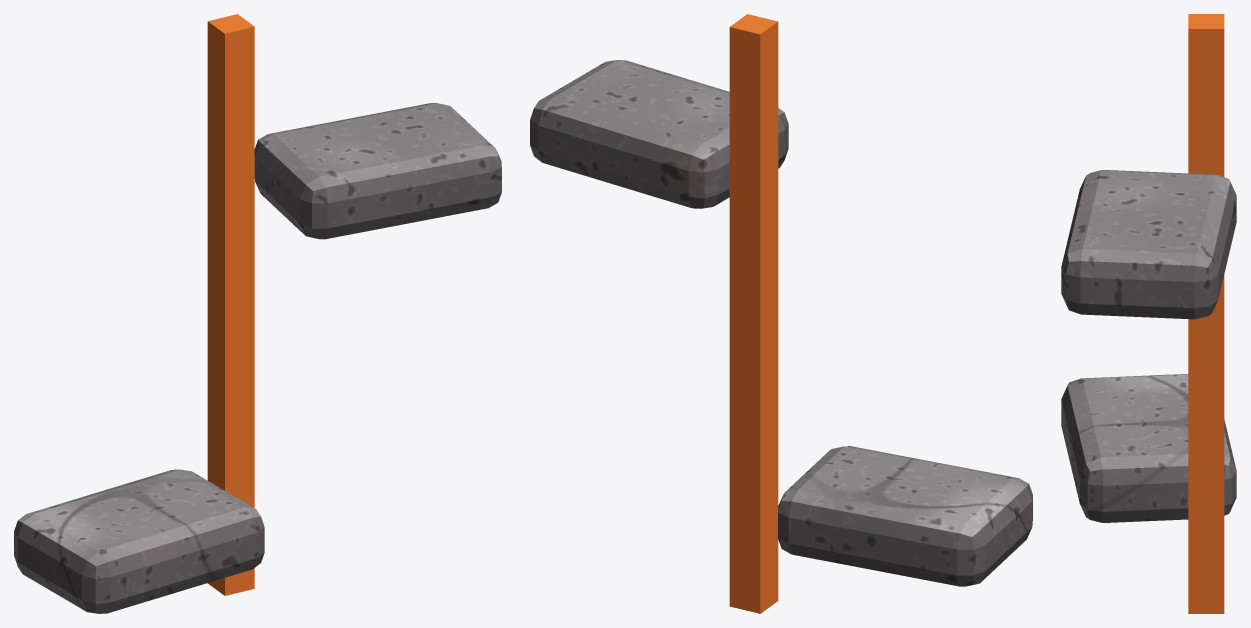
The model's file is rock_holds.glb.
The picture shows the model from 3 angles, left to right: view 1: azimuth 30°, elevation 25°; view 2: azimuth 150°, elevation 25°; view 3: azimuth 270°, elevation 25°; orthographic projection. The views are drawn at different scales.
Visible parts, largest first — view 1: RockHolds; view 2: RockHolds; view 3: RockHolds.
Boxes of the visible parts, <box> form: RockHolds: <box>14,14,501,613</box>; RockHolds: <box>530,14,1032,613</box>; RockHolds: <box>1061,14,1236,613</box>.
Size of the model in its own units: 0.7344 by 0.9 by 0.2449.
1 material, 1 textured.
